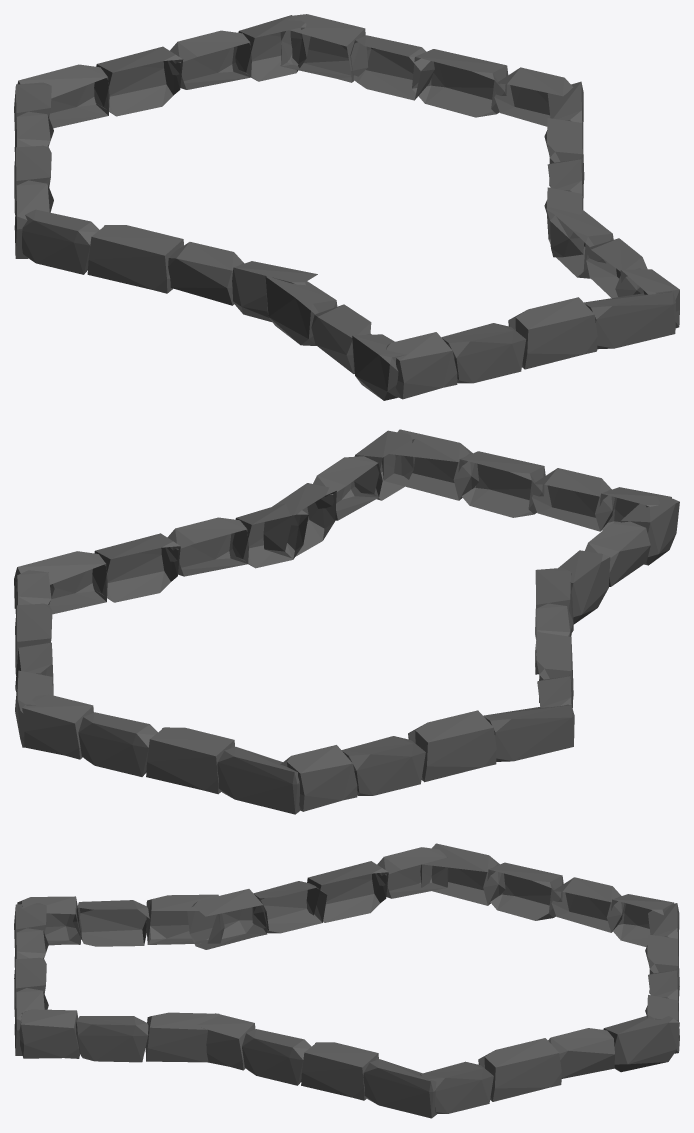
Rendered from foundation_009.glb.
3 views of the same model, one above another, from view 1: azimuth 30°, elevation 25°; view 2: azimuth 150°, elevation 25°; view 3: azimuth 270°, elevation 25° (orthographic). The views are drawn at different scales.
Visible parts, largest first — view 1: foundation_009; view 2: foundation_009; view 3: foundation_009.
Part boxes in pixels (x1,y1,x2,y2): foundation_009: (14,14,679,400); foundation_009: (14,429,679,814); foundation_009: (14,843,679,1118).
Bounding box in the file's own units: 15.54 × 1.27 × 18.25.
Materials: 1 (1 with a texture image).
